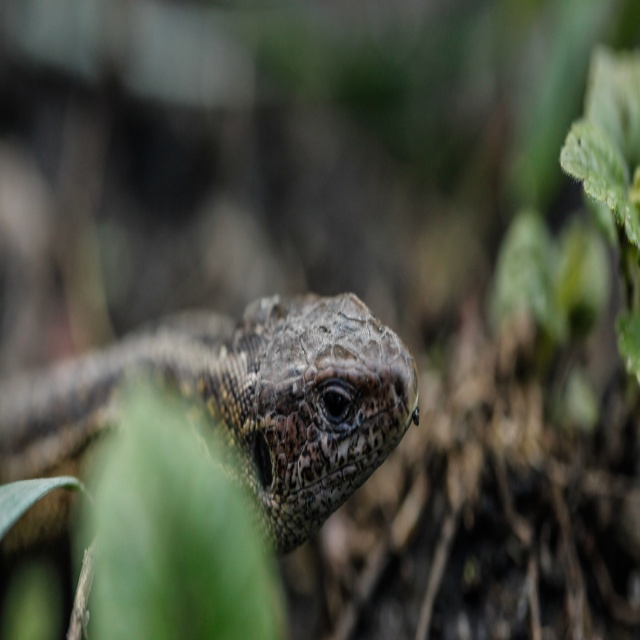Lizard: (1, 290, 421, 639)
